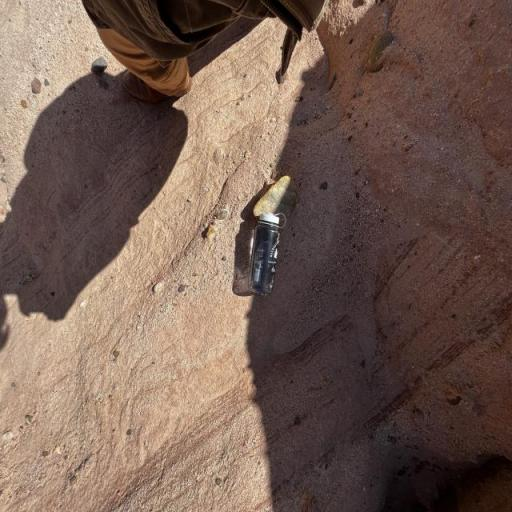bottle: (248, 212, 286, 296)
